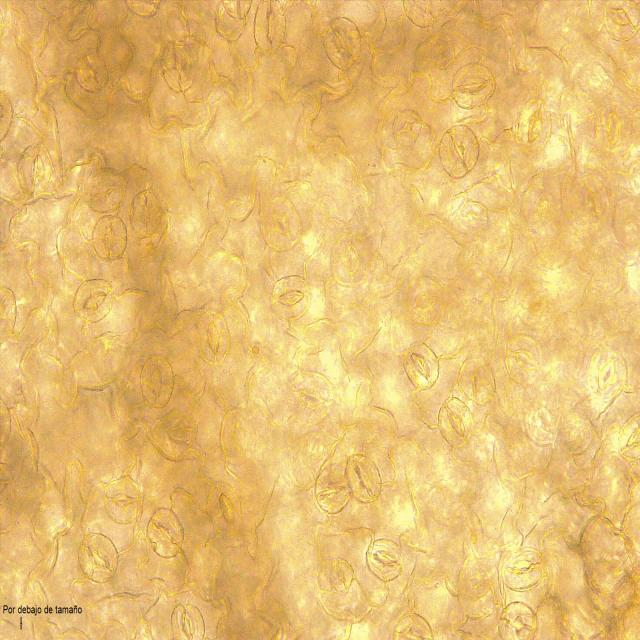Stomata: (286, 370, 334, 425), (438, 122, 480, 180), (449, 61, 497, 110), (259, 196, 301, 252), (504, 331, 545, 388), (322, 16, 362, 71), (77, 532, 119, 584), (588, 348, 628, 401), (331, 234, 371, 287), (515, 99, 553, 154), (146, 506, 185, 559), (205, 482, 243, 536), (437, 395, 475, 449), (404, 276, 445, 326), (104, 474, 144, 524), (502, 548, 546, 593), (83, 168, 126, 214), (344, 453, 382, 505), (364, 537, 406, 584), (402, 340, 440, 391), (254, 0, 288, 57), (16, 144, 52, 197), (140, 355, 175, 409), (73, 278, 114, 323), (196, 311, 230, 365), (314, 466, 352, 514), (271, 274, 310, 320), (92, 214, 128, 261), (129, 188, 162, 236), (498, 600, 537, 640), (605, 0, 640, 41), (170, 601, 205, 640), (392, 610, 437, 640), (617, 411, 640, 463), (402, 0, 444, 28), (328, 556, 357, 593)
